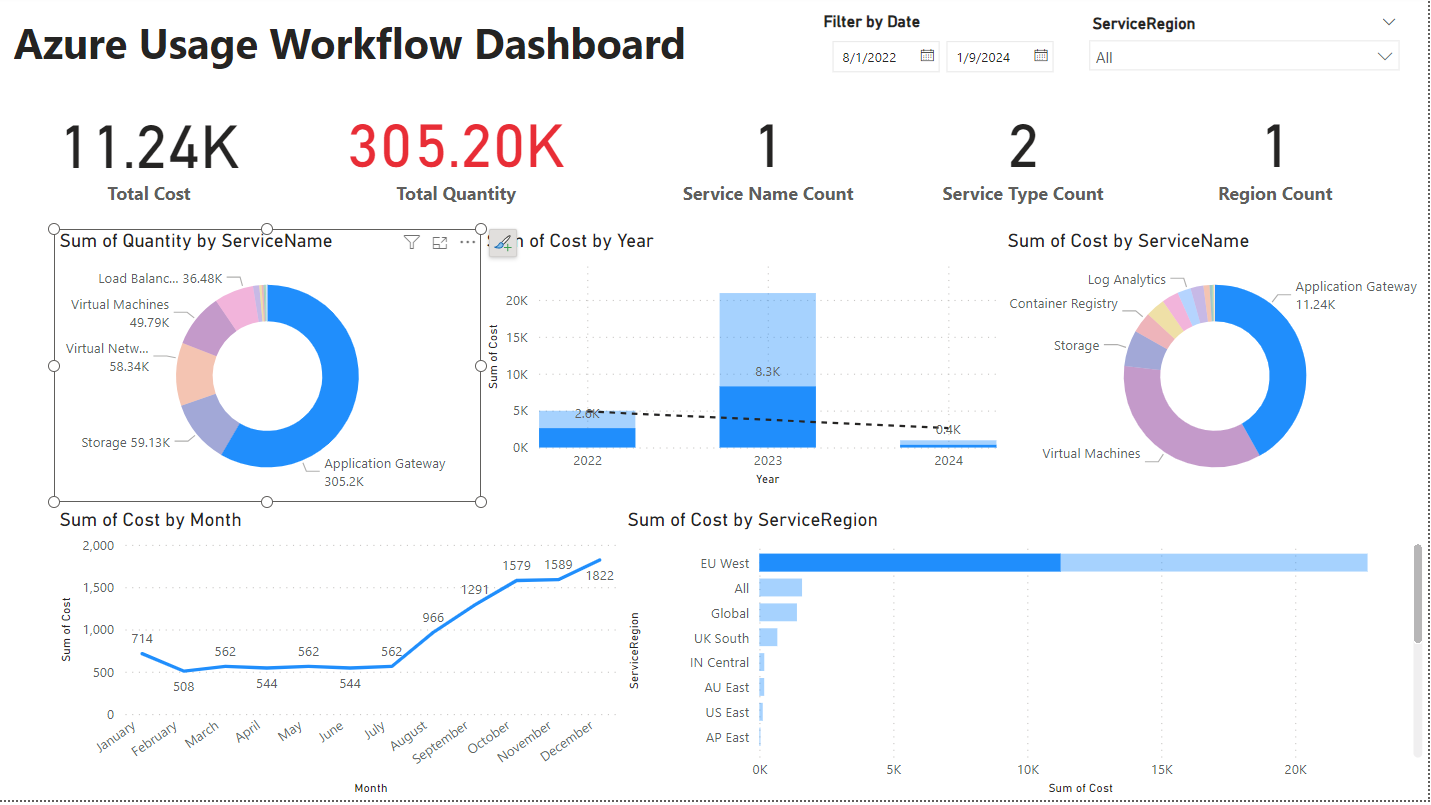

The dashboard page shown, as its layout file describes it:
{"tool":"powerbi","page":{"name":"Main","canvas":[1280,720],"ordinal":0},"visuals":[{"type":"textbox","box":[8.1,11.6,632.2,66.3],"z":0},{"type":"card","fields":{"Values":["Sum(AzureUsage_Workxflow_10-01-2024.Cost)"]},"box":[8,77.8,252.4,120.7],"z":1000},{"type":"card","fields":{"Values":["Sum(AzureUsage_Workxflow_10-01-2024.Quantity)"]},"box":[260.4,62.9,297.3,150.6],"z":2000},{"type":"card","fields":{"Values":["AzureUsage_Workxflow_10-01-2024.Service Type Count"]},"box":[768.2,62.9,297.3,150.6],"z":3000},{"type":"card","fields":{"Values":["AzureUsage_Workxflow_10-01-2024.Region Count"]},"box":[1005.6,62.9,274.4,150.6],"z":4000},{"type":"card","fields":{"Values":["AzureUsage_Workxflow_10-01-2024.Service Name Count"]},"box":[539.7,62.9,297.3,150.6],"z":5000},{"type":"clusteredColumnChart","fields":{"Y":["Sum(AzureUsage_Workxflow_10-01-2024.Cost)"],"Category":["AzureUsage_Workxflow_10-01-2024.Date.Variation.Date Hierarchy.Year"]},"box":[431.6,208.7,466.6,234.6],"z":6000},{"type":"lineChart","fields":{"Category":["AzureUsage_Workxflow_10-01-2024.Date.Variation.Date Hierarchy.Month"],"Y":["Sum(AzureUsage_Workxflow_10-01-2024.Cost)"]},"box":[49.3,458.5,508.7,261.5],"z":7000},{"type":"barChart","fields":{"Category":["AzureUsage_Workxflow_10-01-2024.ServiceRegion"],"Y":["Sum(AzureUsage_Workxflow_10-01-2024.Cost)"]},"box":[557.9,458.5,721.8,261.5],"z":8000},{"type":"donutChart","fields":{"Category":["AzureUsage_Workxflow_10-01-2024.ServiceName"],"Y":["Sum(AzureUsage_Workxflow_10-01-2024.Quantity)"]},"box":[49.3,208.7,382.4,244.5],"z":9000},{"type":"slicer","fields":{"Values":["AzureUsage_Workxflow_10-01-2024.ServiceRegion"]},"box":[966.6,11.8,297.7,69.7],"z":10000},{"type":"donutChart","fields":{"Category":["AzureUsage_Workxflow_10-01-2024.ServiceName"],"Y":["Sum(AzureUsage_Workxflow_10-01-2024.Cost)"]},"box":[898.2,208.7,381.5,244.5],"z":11000},{"type":"slicer","title":"Filter by Date","fields":{"Values":["AzureUsage_Workxflow_10-01-2024.Date"]},"box":[733.4,14.3,232.8,69.9],"z":12000}]}

Visuals, with their boxes in screenshot pixels (x1, y1, x2, y2), scaled from the page's 1280x720 canvas onto the 1431x805 screenshot:
textbox: 9/13/716/87
card - Sum(AzureUsage_Workxflow_10-01-2024.Cost): 9/87/291/222
card - Sum(AzureUsage_Workxflow_10-01-2024.Quantity): 291/70/623/239
card - AzureUsage_Workxflow_10-01-2024.Service Type Count: 859/70/1191/239
card - AzureUsage_Workxflow_10-01-2024.Region Count: 1124/70/1430/239
card - AzureUsage_Workxflow_10-01-2024.Service Name Count: 603/70/936/239
clusteredColumnChart - Sum(AzureUsage_Workxflow_10-01-2024.Cost) x AzureUsage_Workxflow_10-01-2024.Date.Variation.Date Hierarchy.Year: 483/233/1004/496
lineChart - AzureUsage_Workxflow_10-01-2024.Date.Variation.Date Hierarchy.Month x Sum(AzureUsage_Workxflow_10-01-2024.Cost): 55/513/624/804
barChart - AzureUsage_Workxflow_10-01-2024.ServiceRegion x Sum(AzureUsage_Workxflow_10-01-2024.Cost): 624/513/1430/804
donutChart - AzureUsage_Workxflow_10-01-2024.ServiceName x Sum(AzureUsage_Workxflow_10-01-2024.Quantity): 55/233/483/507
slicer - AzureUsage_Workxflow_10-01-2024.ServiceRegion: 1081/13/1413/91
donutChart - AzureUsage_Workxflow_10-01-2024.ServiceName x Sum(AzureUsage_Workxflow_10-01-2024.Cost): 1004/233/1430/507
"Filter by Date" slicer: 820/16/1080/94
